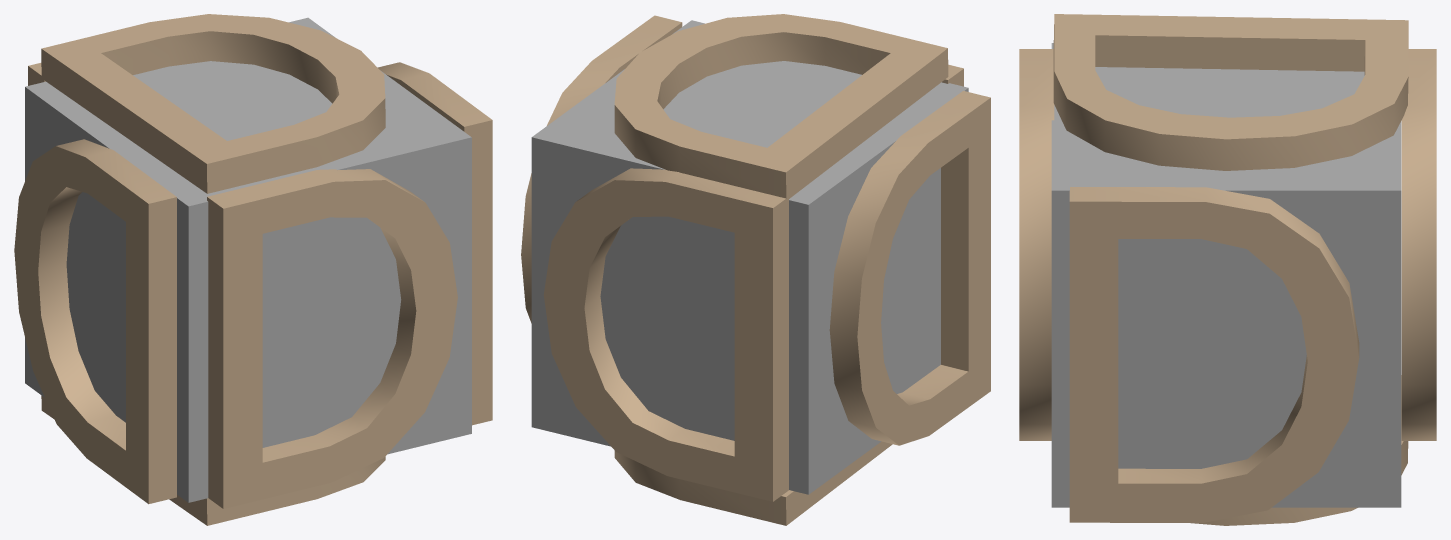
The model's file is LetterD.fbx.
3 views of the same model, side by side, from view 1: azimuth 30°, elevation 25°; view 2: azimuth 150°, elevation 25°; view 3: azimuth 270°, elevation 25° (orthographic). The views are drawn at different scales.
Visible parts, largest first — view 1: Box, Text Front, Text Left, Text Top, Text Right, Text Bottom; view 2: Box, Text Back, Text Left, Text Top, Text Bottom, Text Right; view 3: Box, Text Right, Text Top, Text Back, Text Front, Text Bottom.
Boxes of the visible parts, x1=… form: Box: x1=25, y1=17, x2=471, y2=502; Text Front: x1=207, y1=169, x2=457, y2=508; Text Left: x1=14, y1=139, x2=176, y2=504; Text Top: x1=41, y1=14, x2=385, y2=193; Text Right: x1=377, y1=62, x2=492, y2=425; Text Bottom: x1=41, y1=395, x2=385, y2=525; Box: x1=531, y1=20, x2=968, y2=494; Text Back: x1=543, y1=168, x2=788, y2=501; Text Left: x1=829, y1=91, x2=990, y2=445; Text Top: x1=614, y1=14, x2=948, y2=200; Text Bottom: x1=614, y1=441, x2=892, y2=525; Text Right: x1=521, y1=15, x2=682, y2=323; Box: x1=1051, y1=43, x2=1401, y2=507; Text Right: x1=1069, y1=187, x2=1359, y2=522; Text Top: x1=1053, y1=14, x2=1408, y2=170; Text Back: x1=1401, y1=49, x2=1436, y2=440; Text Front: x1=1019, y1=49, x2=1054, y2=440; Text Bottom: x1=1191, y1=375, x2=1408, y2=525.
Bounding box in the file's own units: 1.22 × 1.24 × 1.19.
